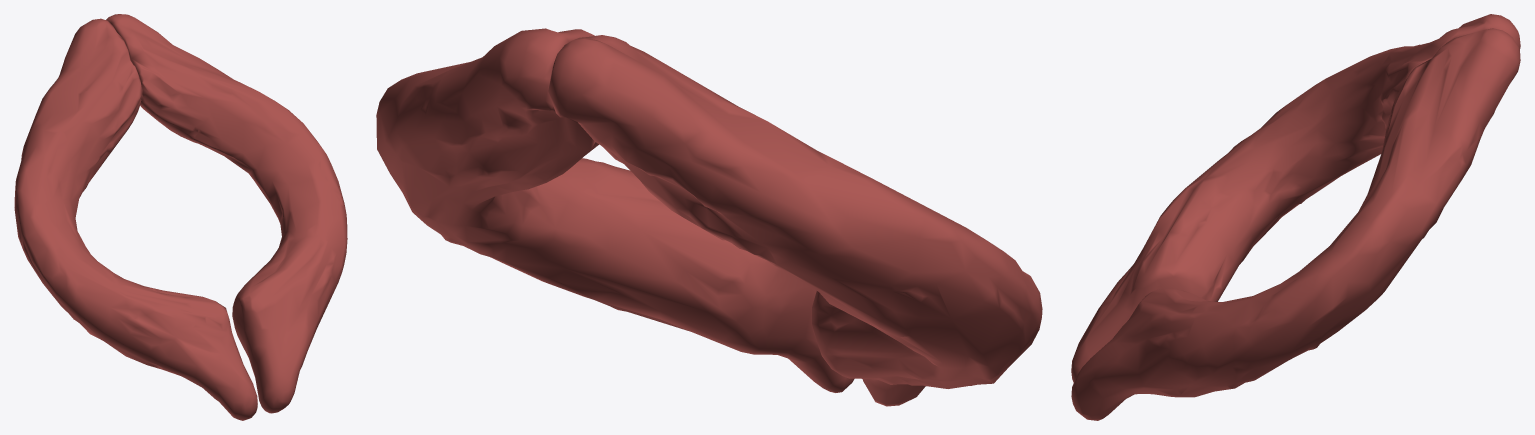
File: FMA21930.glb
3 renders of one model, left to right at view 1: azimuth 30°, elevation 25°; view 2: azimuth 150°, elevation 25°; view 3: azimuth 270°, elevation 25°, orthographic. The views are drawn at different scales.
Visible parts, largest first — view 1: FMA21930; view 2: FMA21930; view 3: FMA21930.
Part boxes in pixels (box(x1,y1,x2,y2)): FMA21930: box(14, 14, 347, 420); FMA21930: box(376, 28, 1042, 406); FMA21930: box(1071, 14, 1520, 420).
Size of the model in its own units: 0.0233 by 0.0211 by 0.0222.
